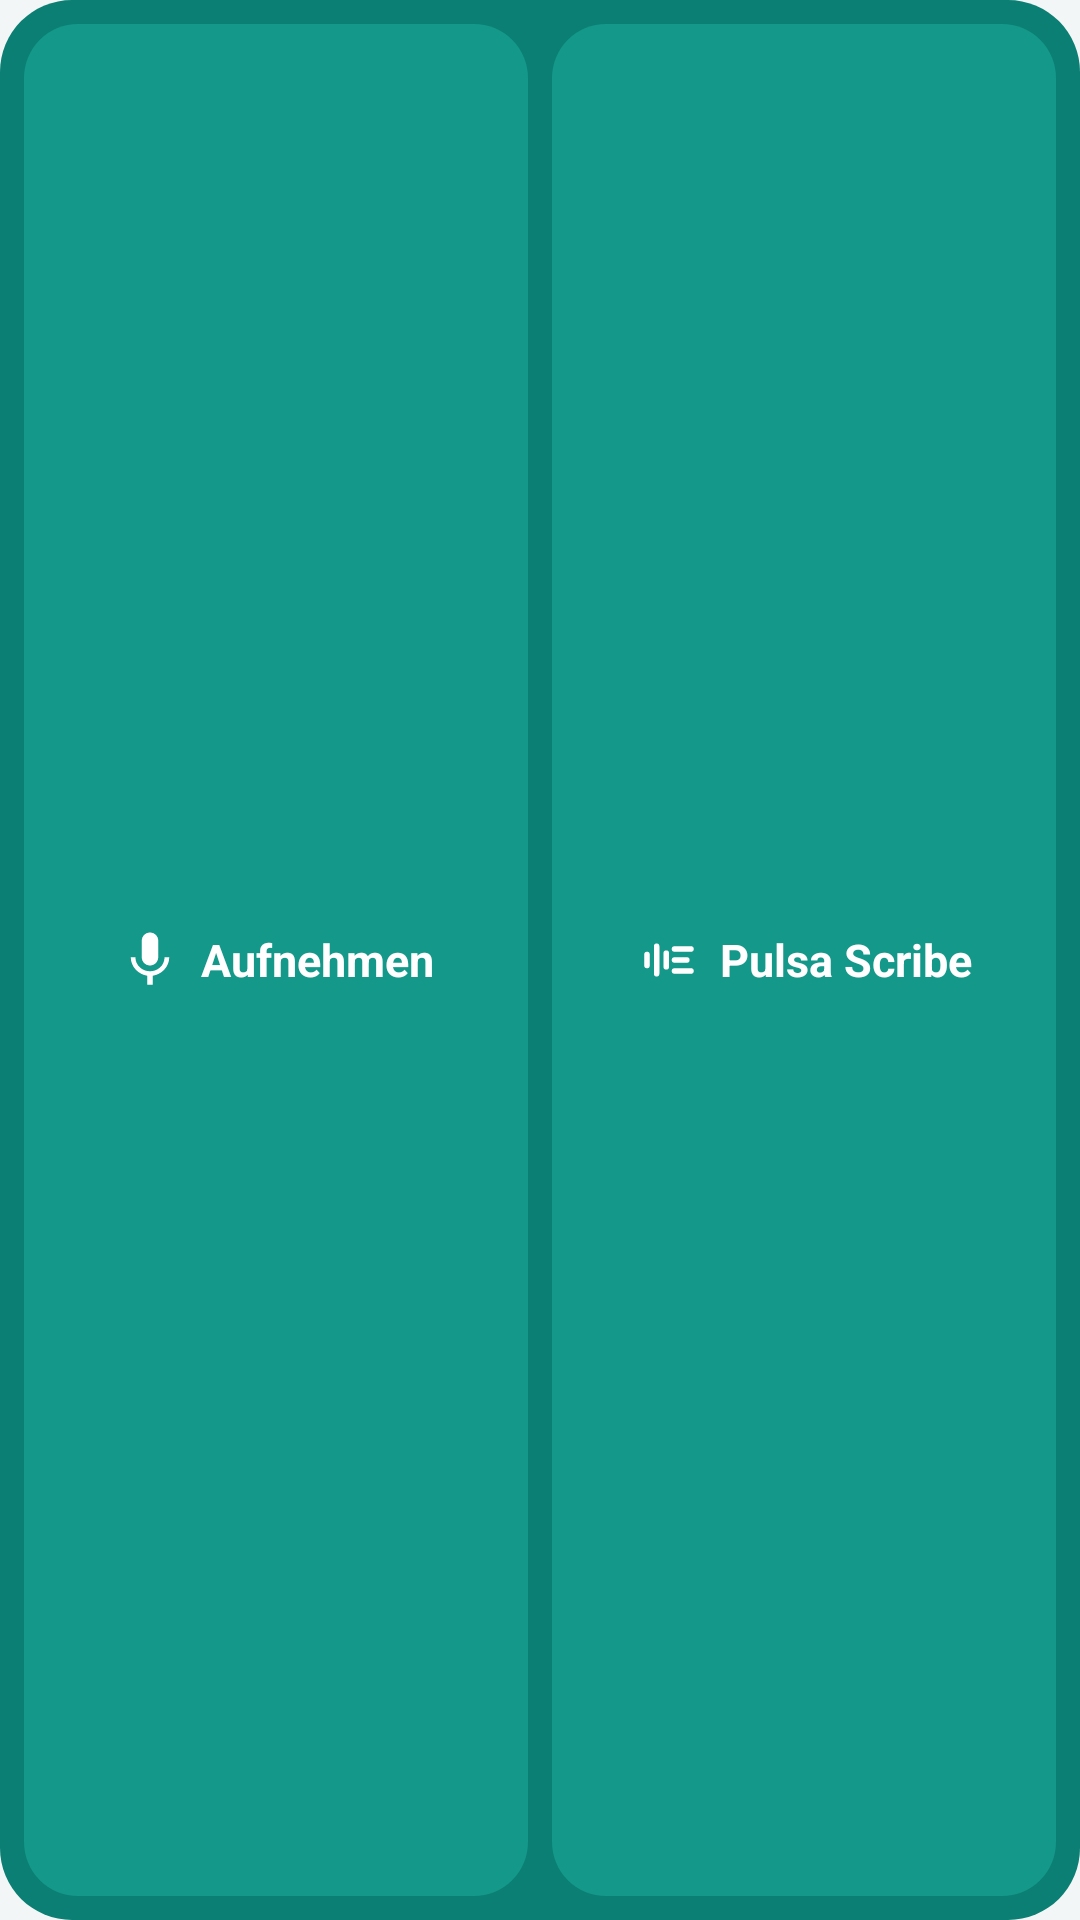

Icon click points for this 1080px x 1920px phone screenshot, format (x,y):
mic: (150,958)
